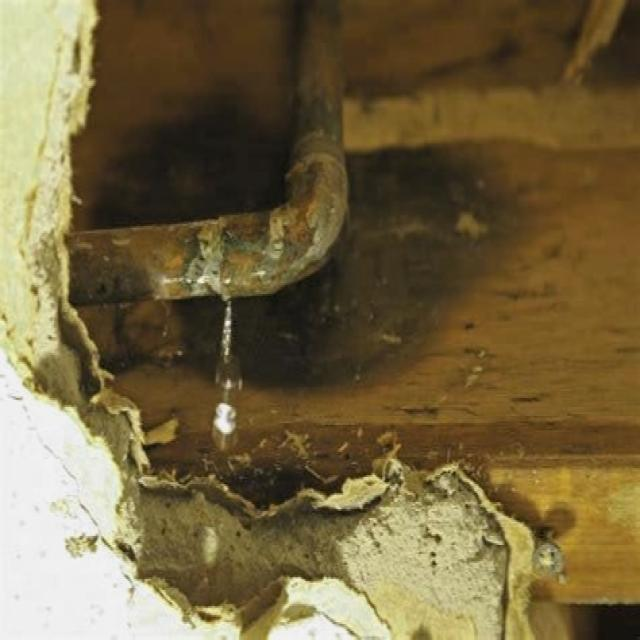Leak: (220, 284, 236, 324)
